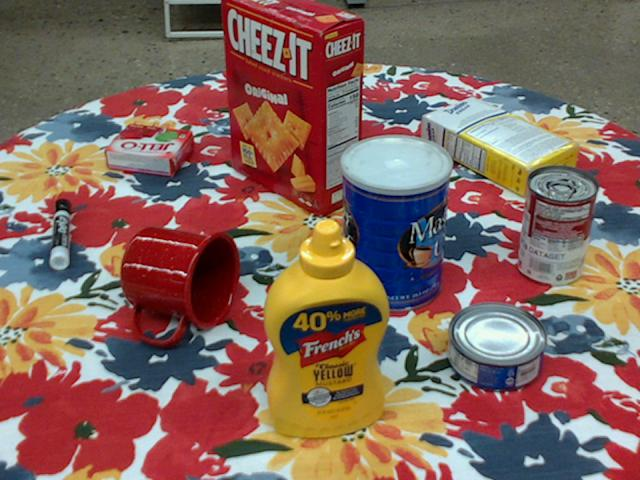cracker_box: (222, 0, 364, 212)
gelatin_box: (104, 125, 194, 177)
large_marker: (49, 198, 70, 269)
master_chef_can: (340, 135, 451, 314)
mug: (118, 226, 239, 345)
mustard_bottle: (262, 219, 387, 438)
potted_meat_can: (251, 46, 329, 122)
sugar_box: (422, 95, 580, 198)
tomato_soup_can: (519, 165, 598, 286)
tuna_fish_can: (445, 303, 545, 393)
